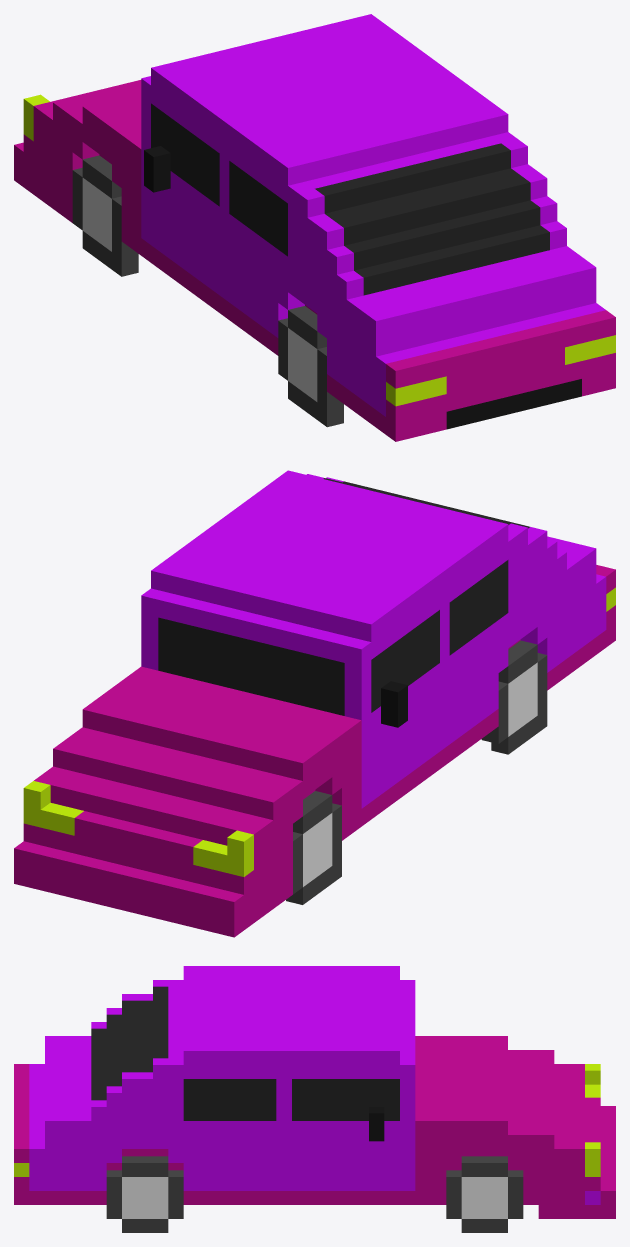
File: Pink car.obj
3 renders of one model, top to bottom at view 1: azimuth 30°, elevation 25°; view 2: azimuth 150°, elevation 25°; view 3: azimuth 270°, elevation 25°, orthographic. The views are drawn at different scales.
Size of the model in its own units: 1.5 by 1.3 by 3.9.
